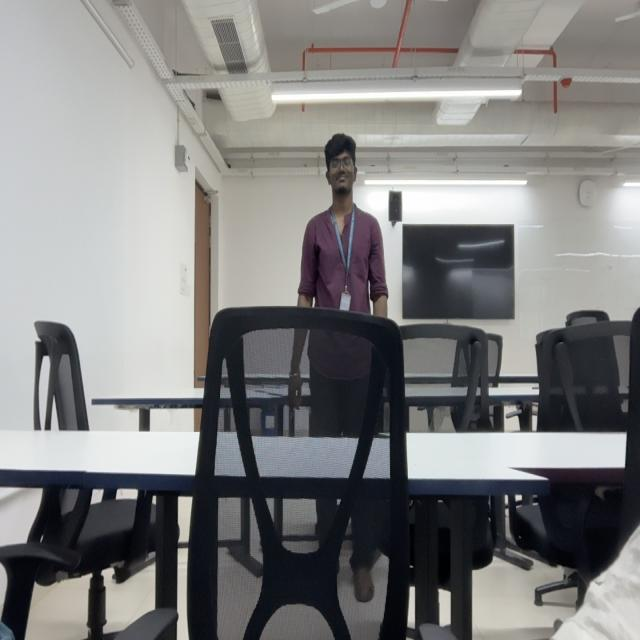ravindra: (322, 132, 358, 197)
